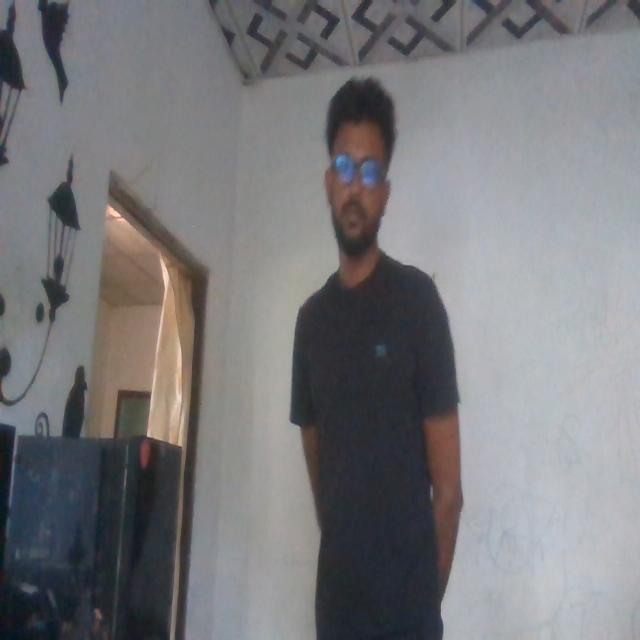Person: (294, 78, 464, 640)
